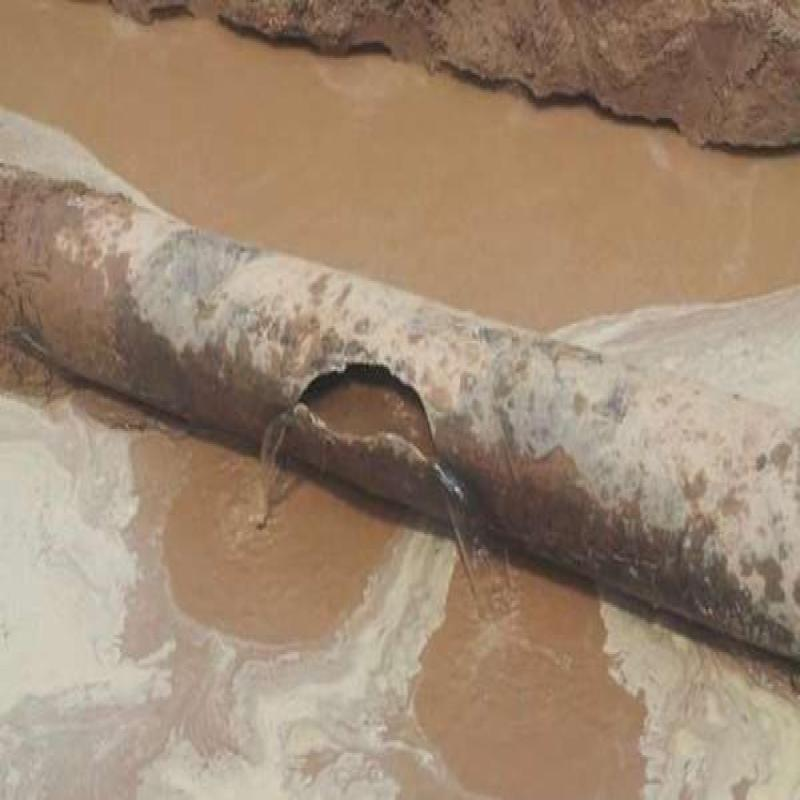Fracture: (288, 351, 459, 480)
